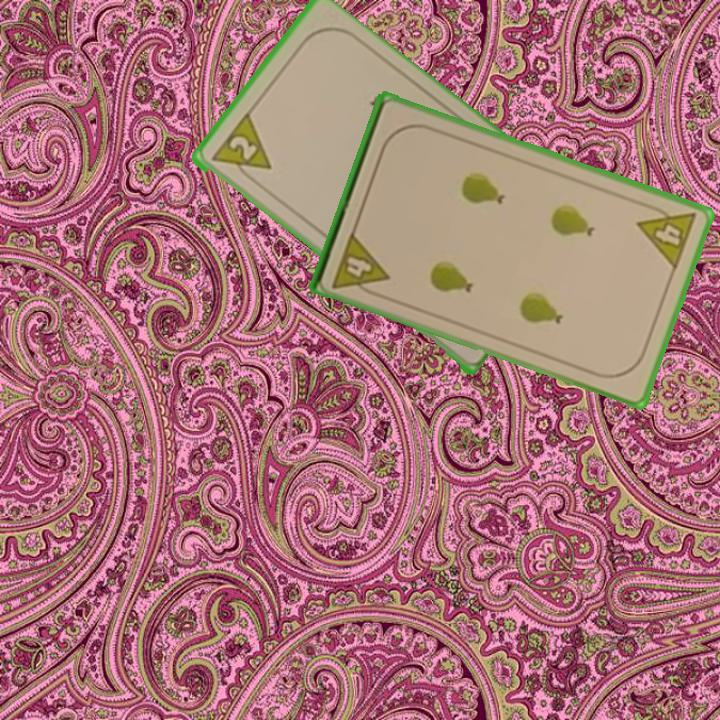2p: (225, 131, 260, 164)
4p: (634, 198, 700, 273), (329, 228, 392, 301)
